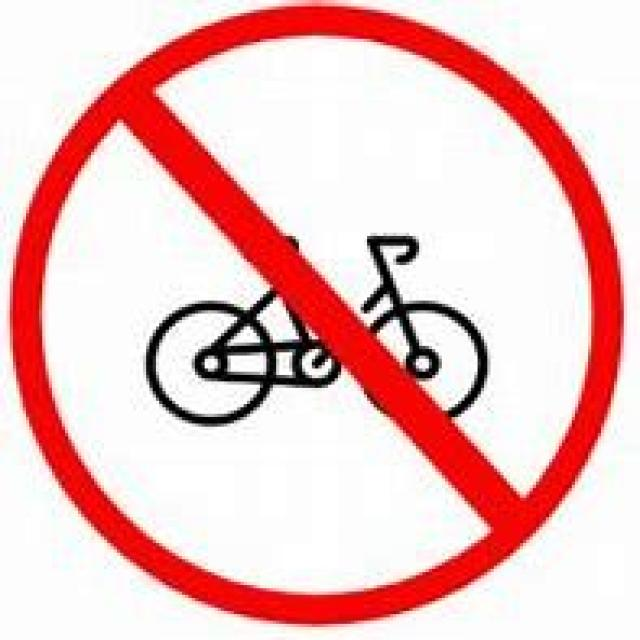cycle_prohibited: (6, 0, 624, 624)
